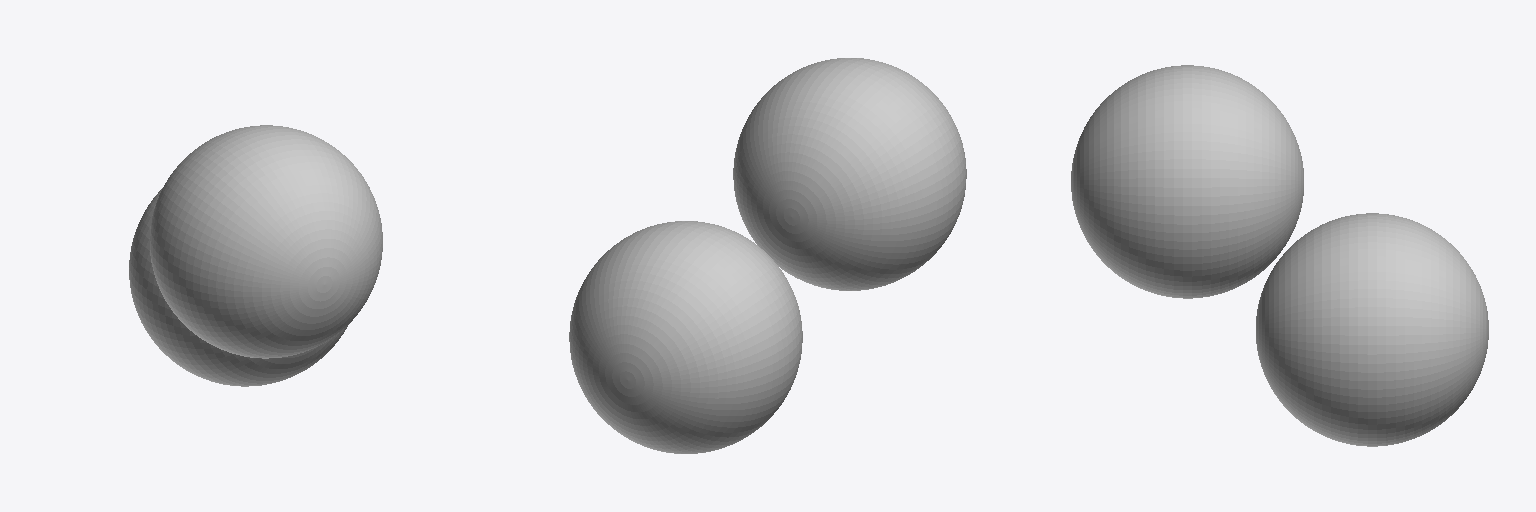
File: nucleus.obj
3 renders of one model, left to right at view 1: azimuth 30°, elevation 25°; view 2: azimuth 150°, elevation 25°; view 3: azimuth 270°, elevation 25°, orthographic.
Parts seen in each view (by area): view 1: helim_atom_-_proton-1, helim_atom_-_proton-1.002; view 2: helim_atom_-_proton-1.002, helim_atom_-_proton-1; view 3: helim_atom_-_proton-1, helim_atom_-_proton-1.002.
Boxes of the visible parts, x1,y1,x2,y2 form: helim_atom_-_proton-1: [150, 125, 382, 358]; helim_atom_-_proton-1.002: [129, 188, 347, 386]; helim_atom_-_proton-1.002: [569, 221, 802, 453]; helim_atom_-_proton-1: [733, 58, 966, 290]; helim_atom_-_proton-1: [1071, 65, 1303, 298]; helim_atom_-_proton-1.002: [1256, 213, 1488, 446].
Bounding box in the file's own units: 1.72 × 1.95 × 2.27.